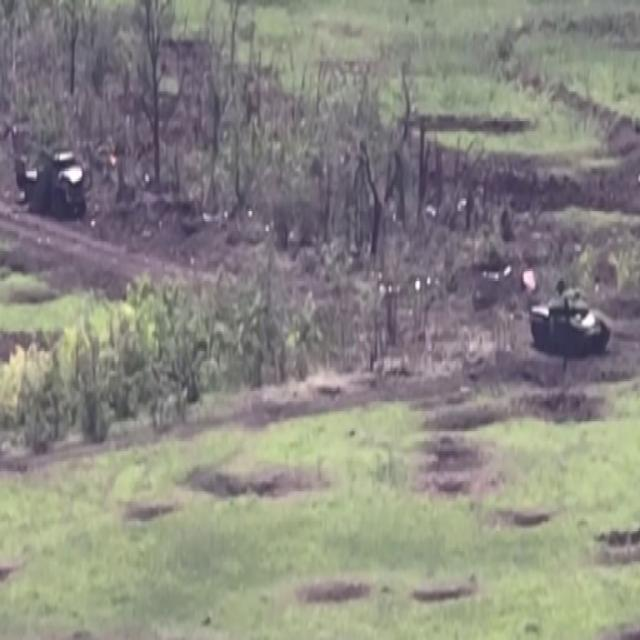TANK: (528, 283, 612, 357)
TRUCK: (16, 137, 86, 216)
